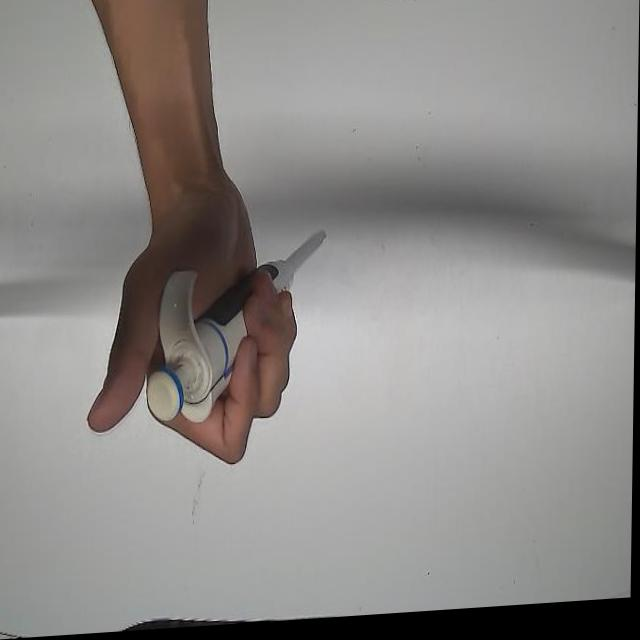Single Channel Pipettor: (142, 230, 327, 430)
